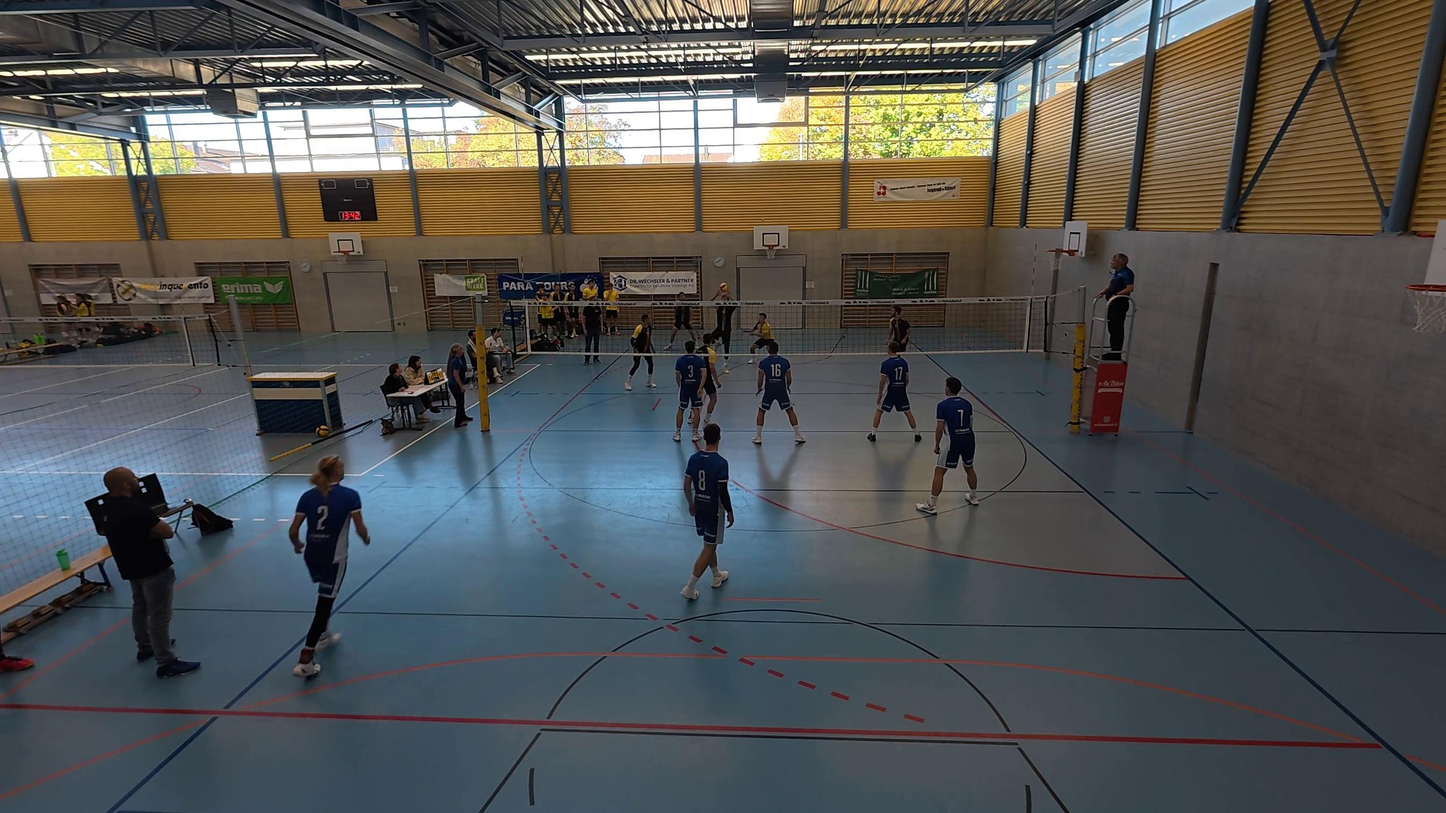ricezione: (710, 283, 739, 377)
